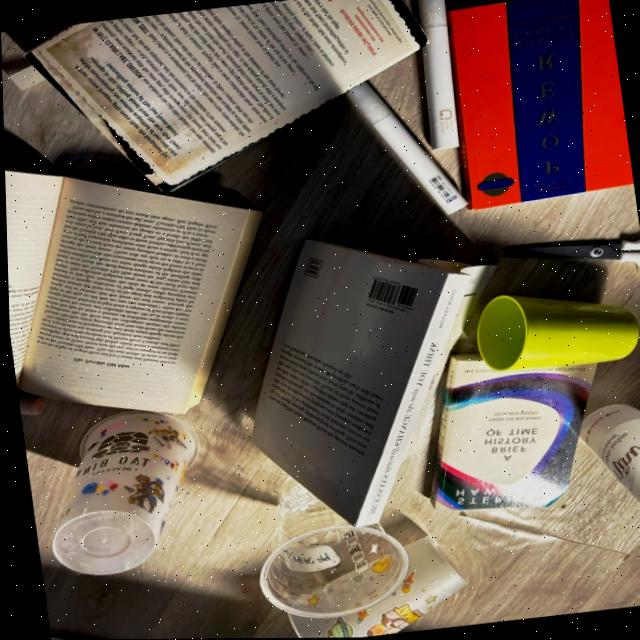Book: (4, 0, 426, 189), (250, 238, 491, 528), (4, 169, 259, 413), (448, 0, 632, 210), (427, 354, 594, 510)
HighLight Pen: (346, 82, 463, 214), (417, 0, 457, 150)
Plastic Cup: (48, 411, 194, 575), (257, 486, 403, 616), (283, 536, 461, 638), (577, 405, 640, 507)
Scissors: (502, 240, 640, 275)
WaterGlass: (474, 296, 636, 372)
